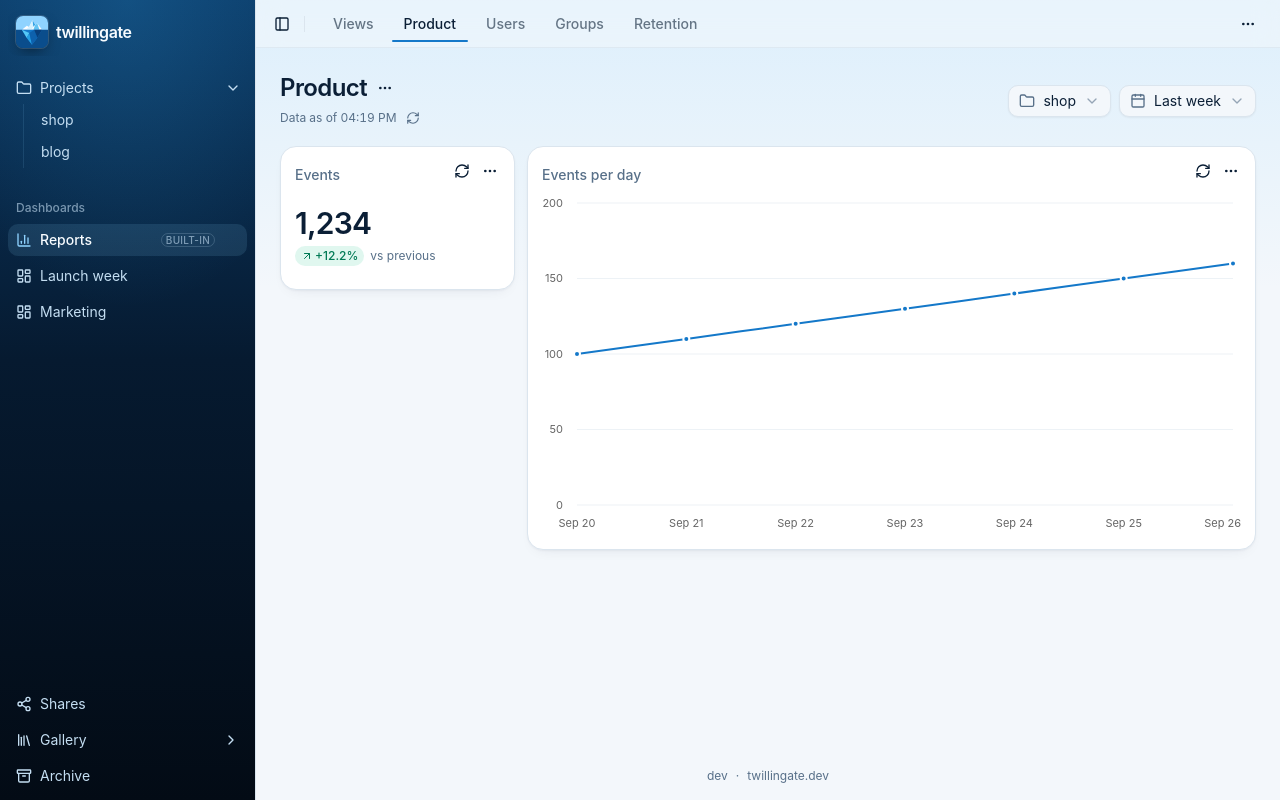
Dashboard › saves a new project and puts it in the URL
The image size is (1280, 800).
Click the button with aria-label "Project: shop" at [1060, 101], box 1008,85 -> 1111,117
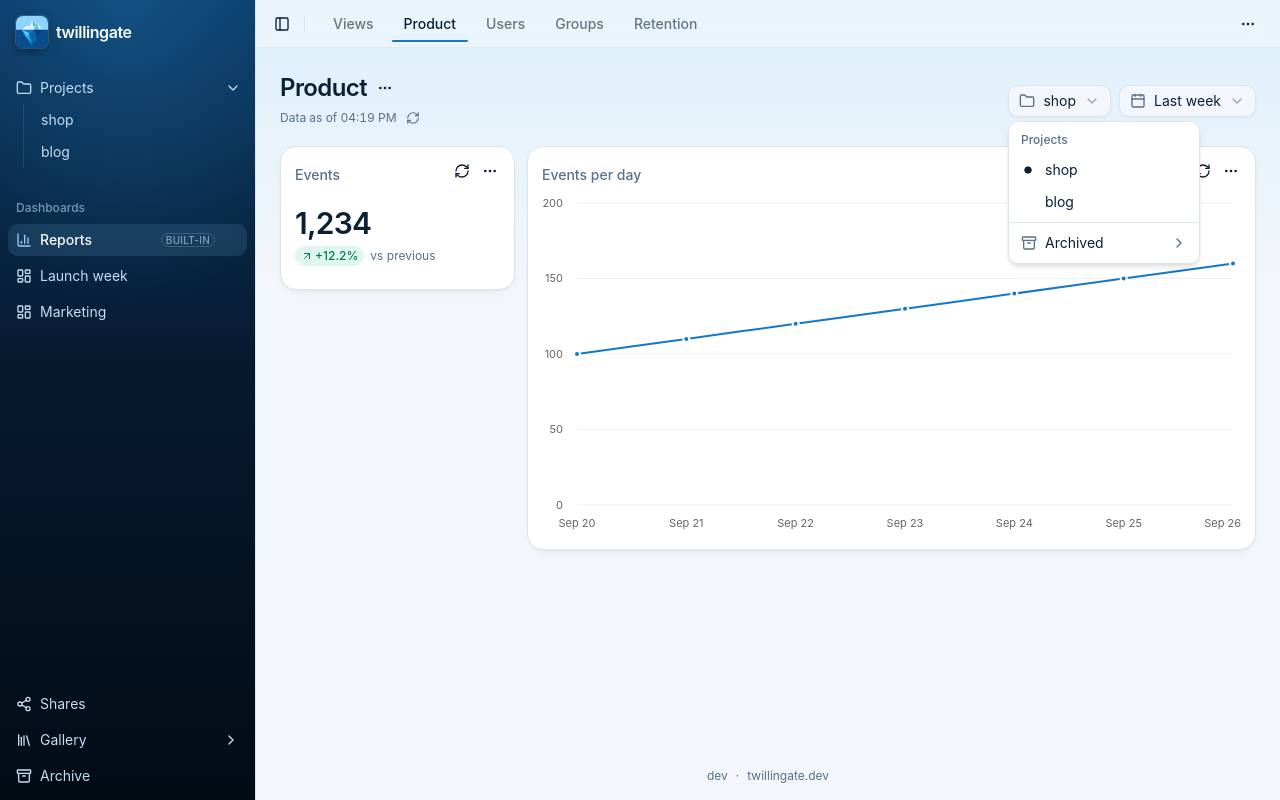
Click the menu item "blog" at [1060, 202], box 1045,193 -> 1074,210
(page scrolled)
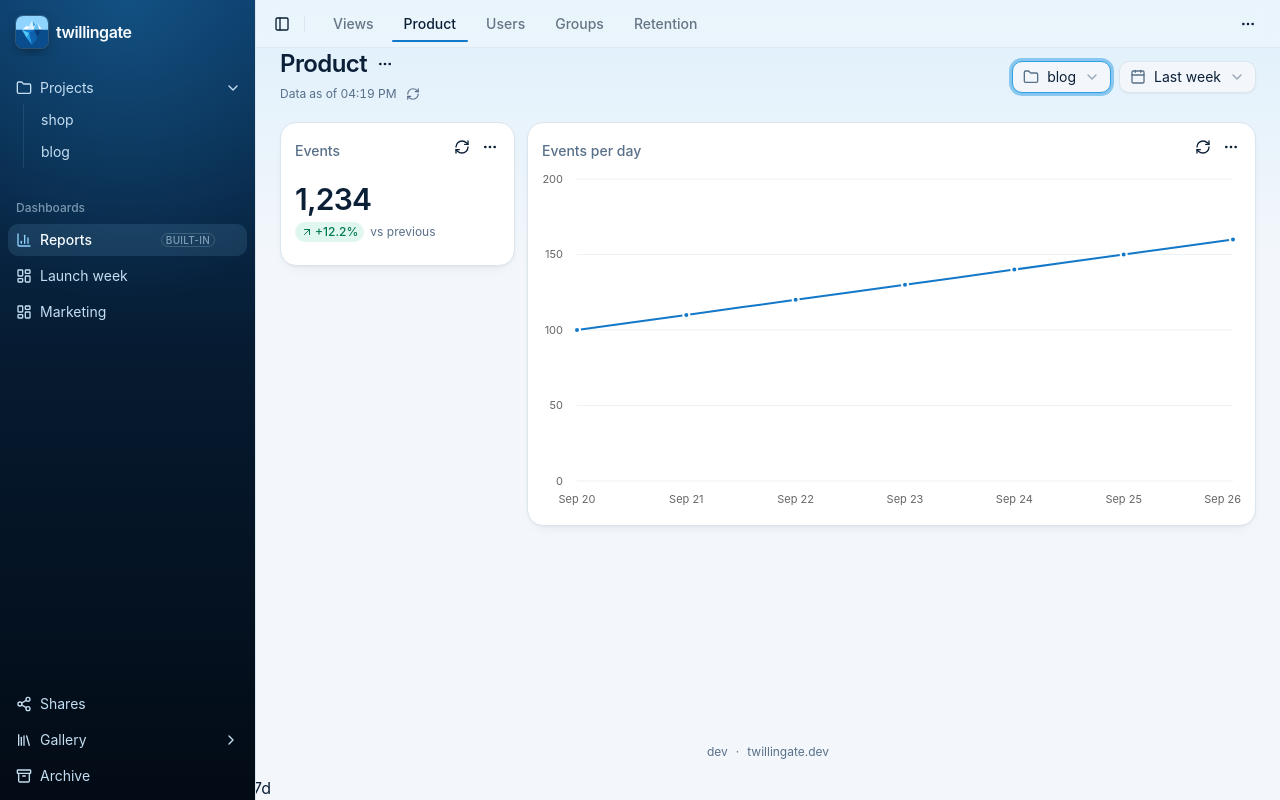
Now the text with test id "location" reads "/dashboards/2?project=1&range=7d", box 0,778 -> 271,798
